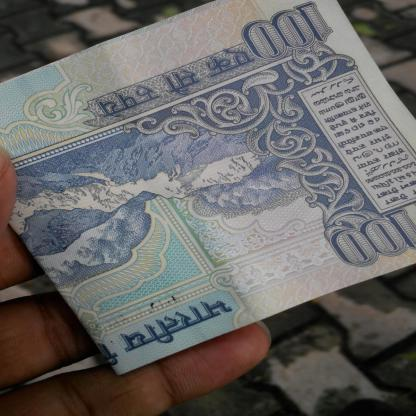Old100Back: (0, 0, 415, 377)
